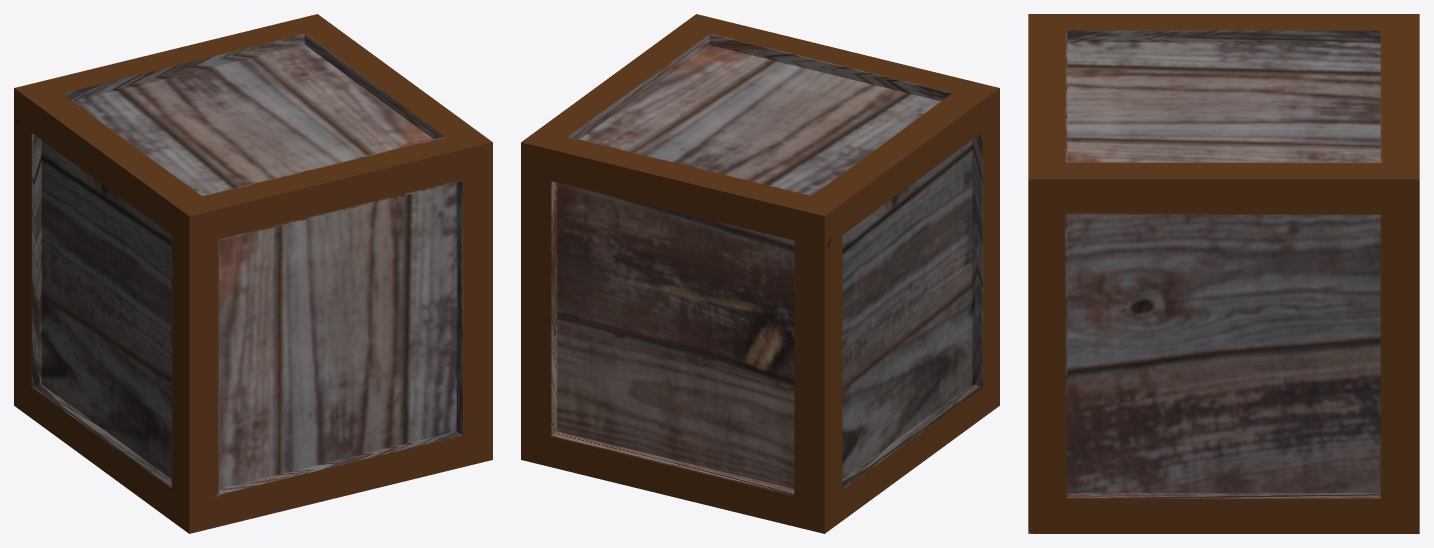
File: block.dae
3 renders of one model, left to right at view 1: azimuth 30°, elevation 25°; view 2: azimuth 150°, elevation 25°; view 3: azimuth 270°, elevation 25°, orthographic. The views are drawn at different scales.
Visible parts, largest first — view 1: Cube; view 2: Cube; view 3: Cube.
Boxes of the visible parts, bbox=[...] form: Cube: bbox=[14, 14, 492, 533]; Cube: bbox=[521, 14, 999, 533]; Cube: bbox=[1028, 14, 1419, 533].
Size of the model in its own units: 3 by 3 by 3.
1 material, 1 textured.
